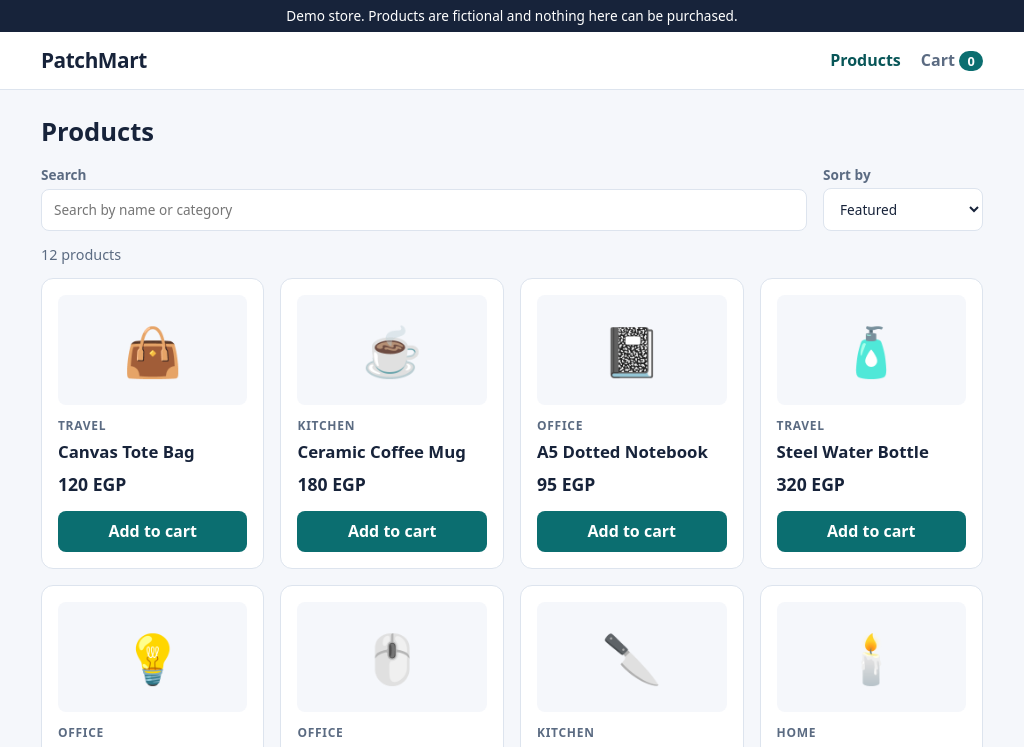
Test case: cart page › removes a product from the cart
Step 1. Click the button "Add to cart" below "Ceramic Coffee Mug" → {"x": 392, "y": 532}, box [298, 511, 487, 552]
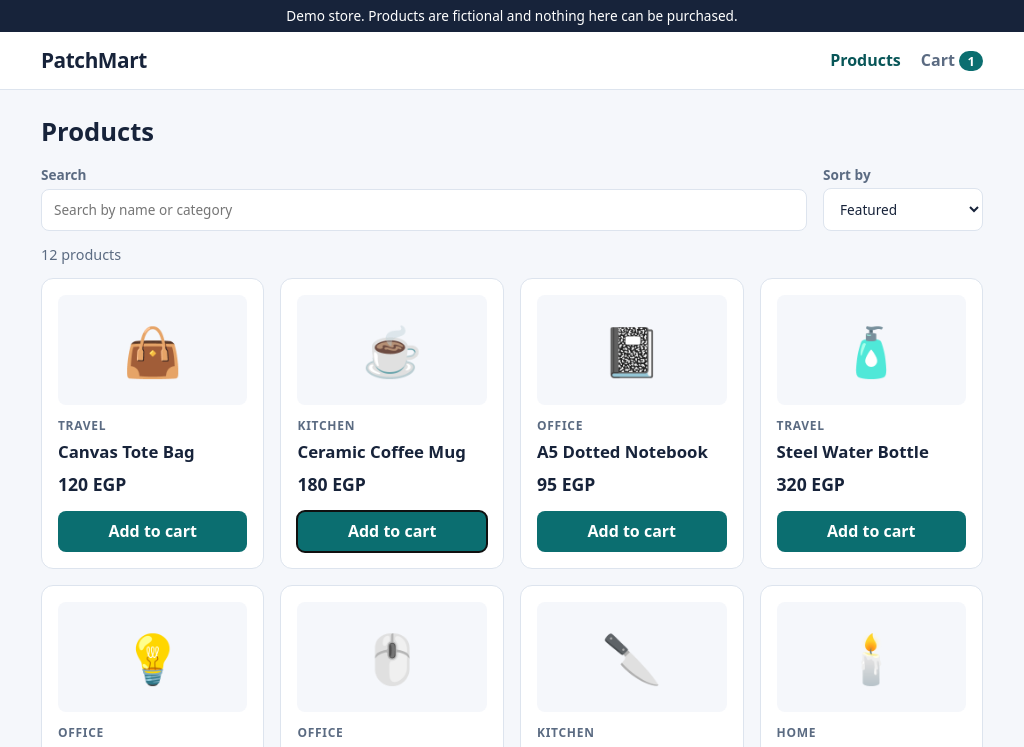
Step 2. Click the link "Cart 1" → {"x": 952, "y": 60}, box [921, 49, 983, 71]
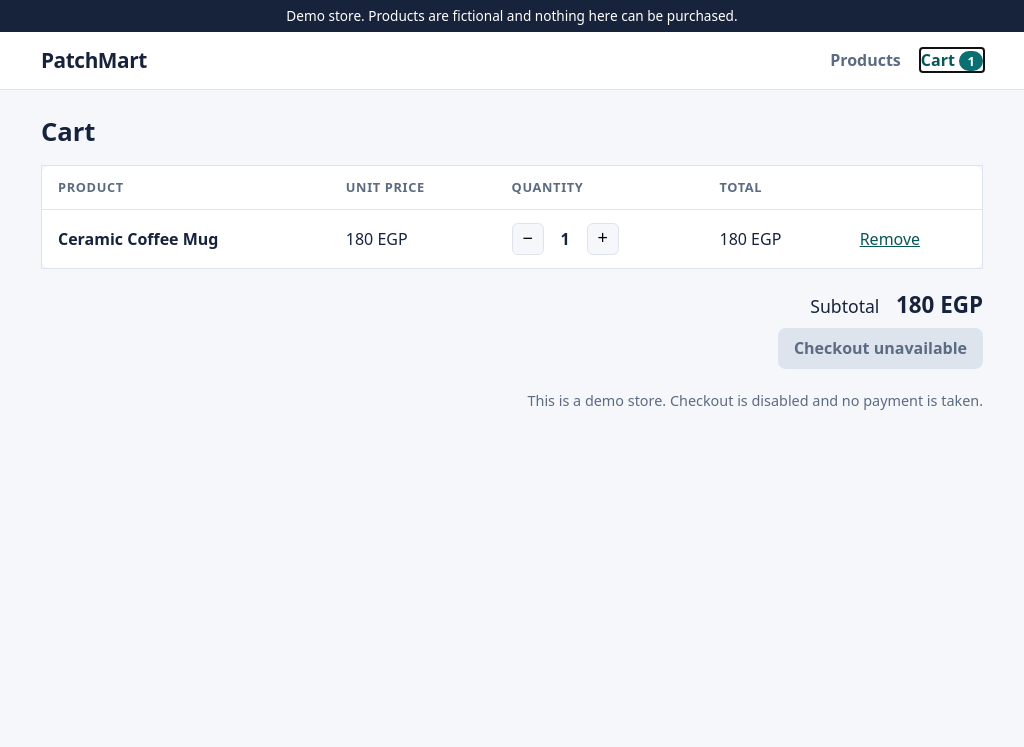
Step 3. Click the button "Remove" → {"x": 890, "y": 239}, box [860, 228, 920, 250]
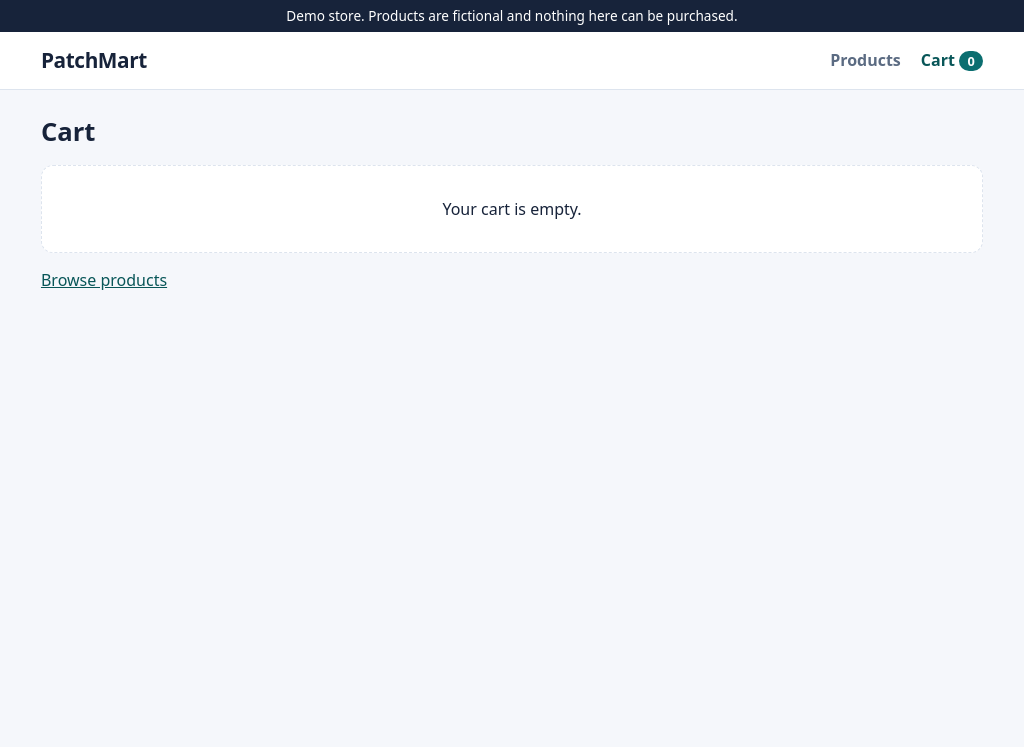
Now the text "Your cart is empty." is shown, box [41, 165, 983, 253]
